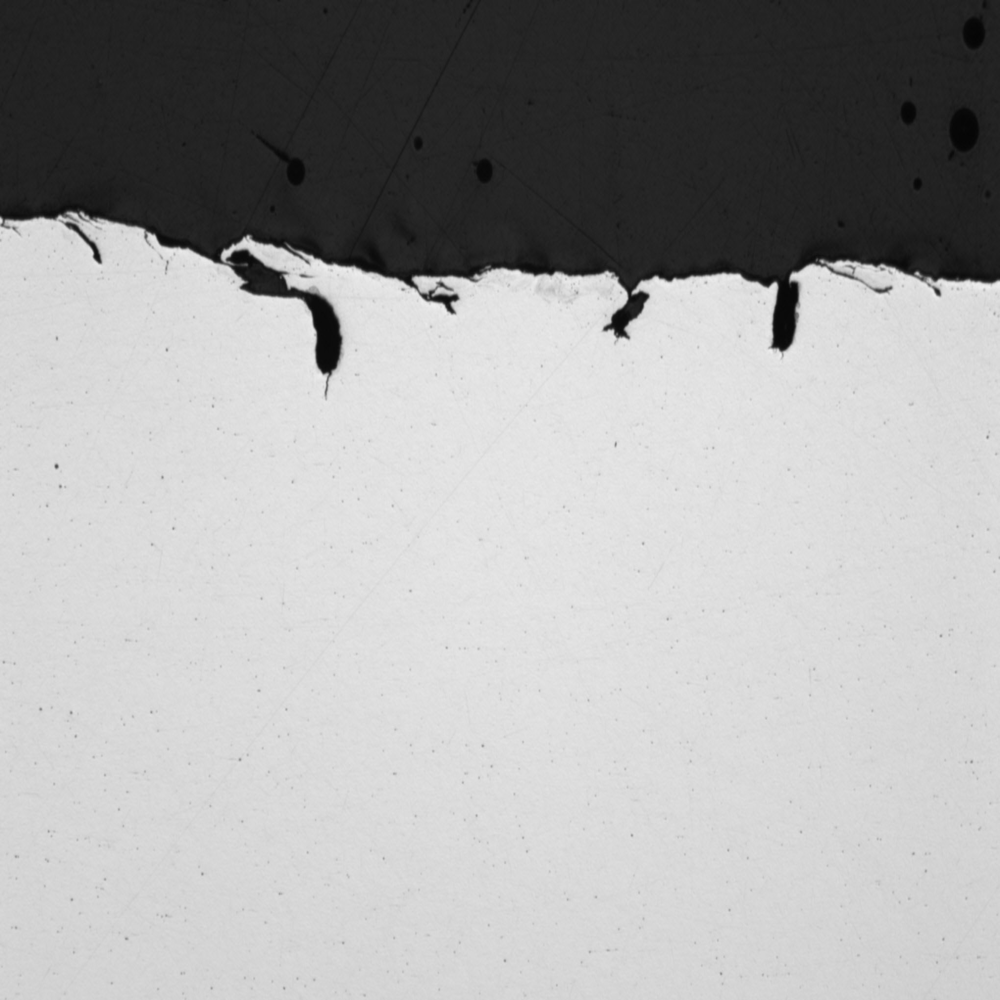crack: (146, 220, 365, 381), (725, 250, 823, 373), (593, 250, 662, 346), (385, 265, 474, 317)
